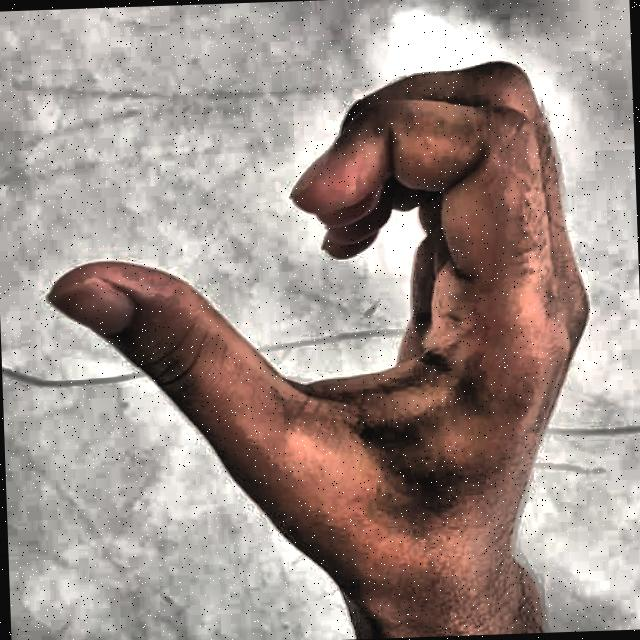Kha: (16, 12, 622, 624)
